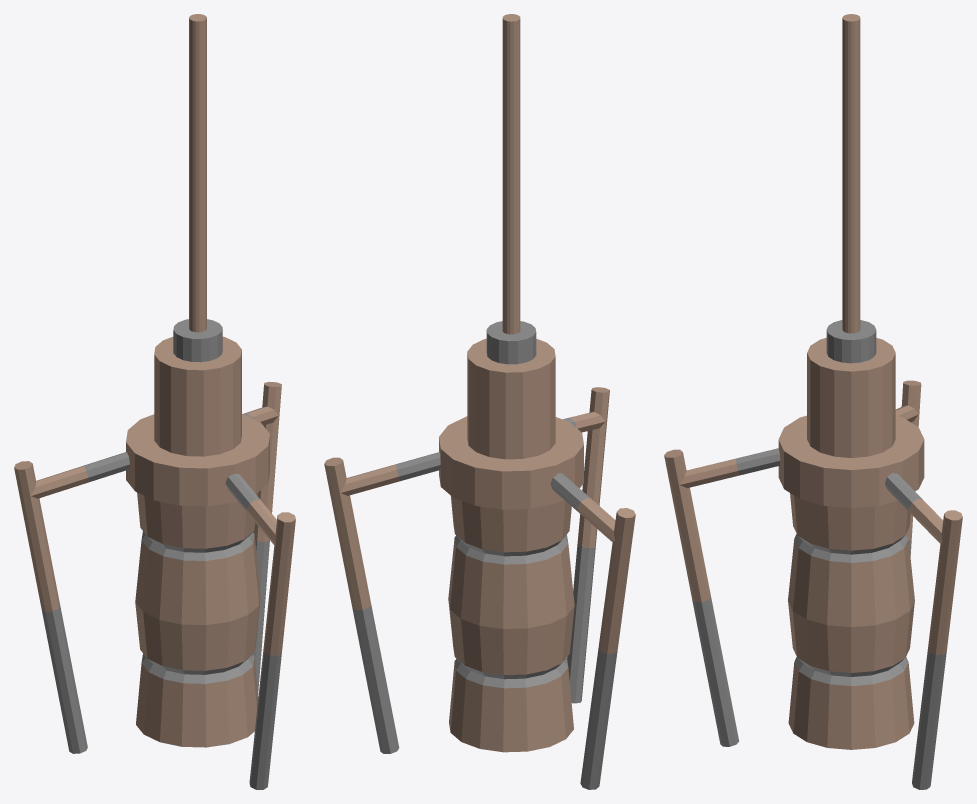
File: statue_1.fbx
The picture shows the model from 3 angles, left to right: view 1: azimuth 30°, elevation 25°; view 2: azimuth 150°, elevation 25°; view 3: azimuth 270°, elevation 25°; orthographic projection.
Parts seen in each view (by area): view 1: Cube.005; view 2: Cube.005; view 3: Cube.005.
Boxes of the visible parts, x1,y1,x2,y2 form: Cube.005: [14, 14, 295, 789]; Cube.005: [324, 14, 635, 789]; Cube.005: [664, 14, 962, 789].
Bounding box in the file's own units: 526 × 1274 × 475.
